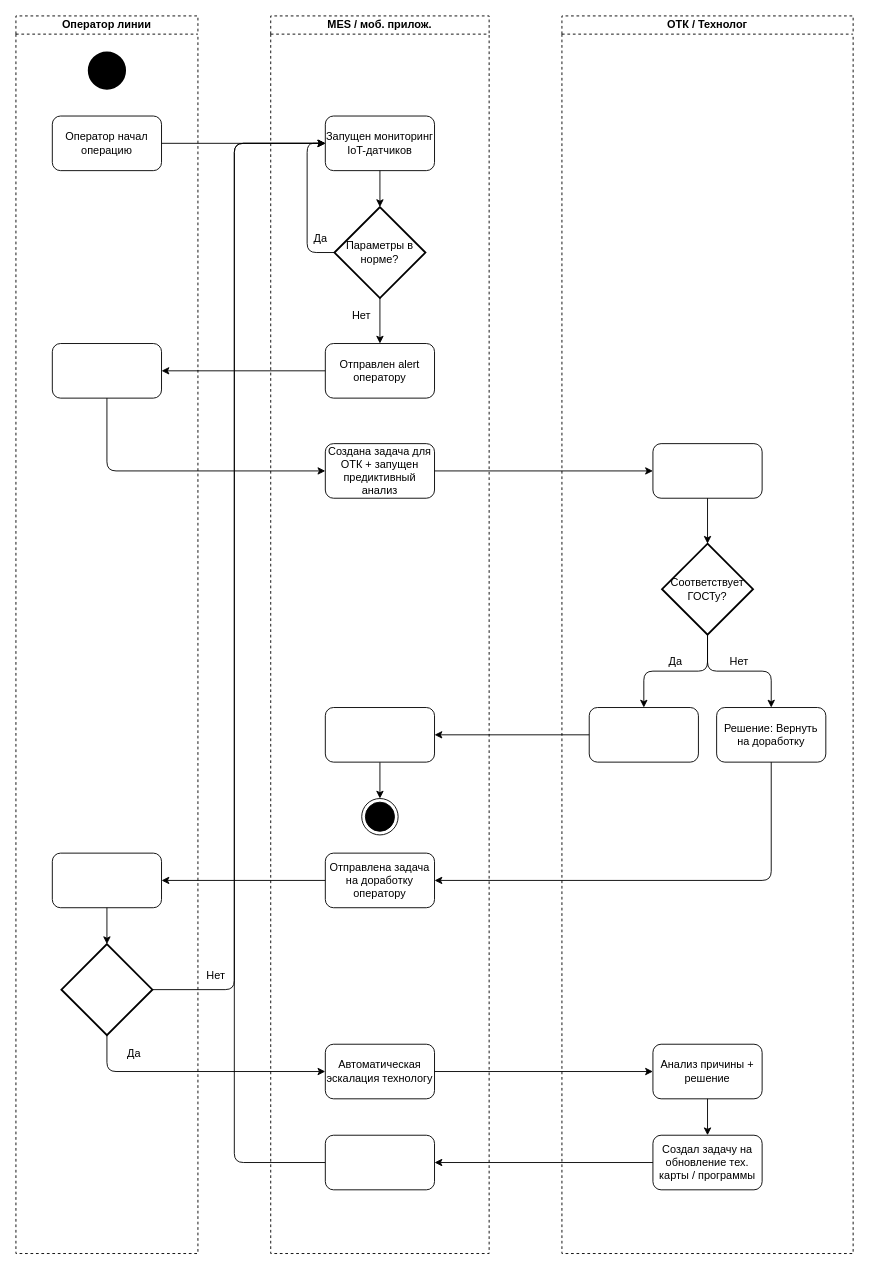
This 869x1269 diagram has some shape labels left out. The shapes that lost their labels are listed below. From the top down, each one's centre as x and y in pixels, then its label:
(x=106, y=370): Подтвердил брак + отправил фото / комментарий
(x=707, y=470): Принял задачу и начал проверку
(x=379, y=734): Передача в упаковку / отгрузку
(x=643, y=734): Партия принята
(x=106, y=880): Выполняет доработку
(x=106, y=989): Системная / повторяющаяся проблема?
(x=379, y=1162): Доставлено обновление оператору / линии
